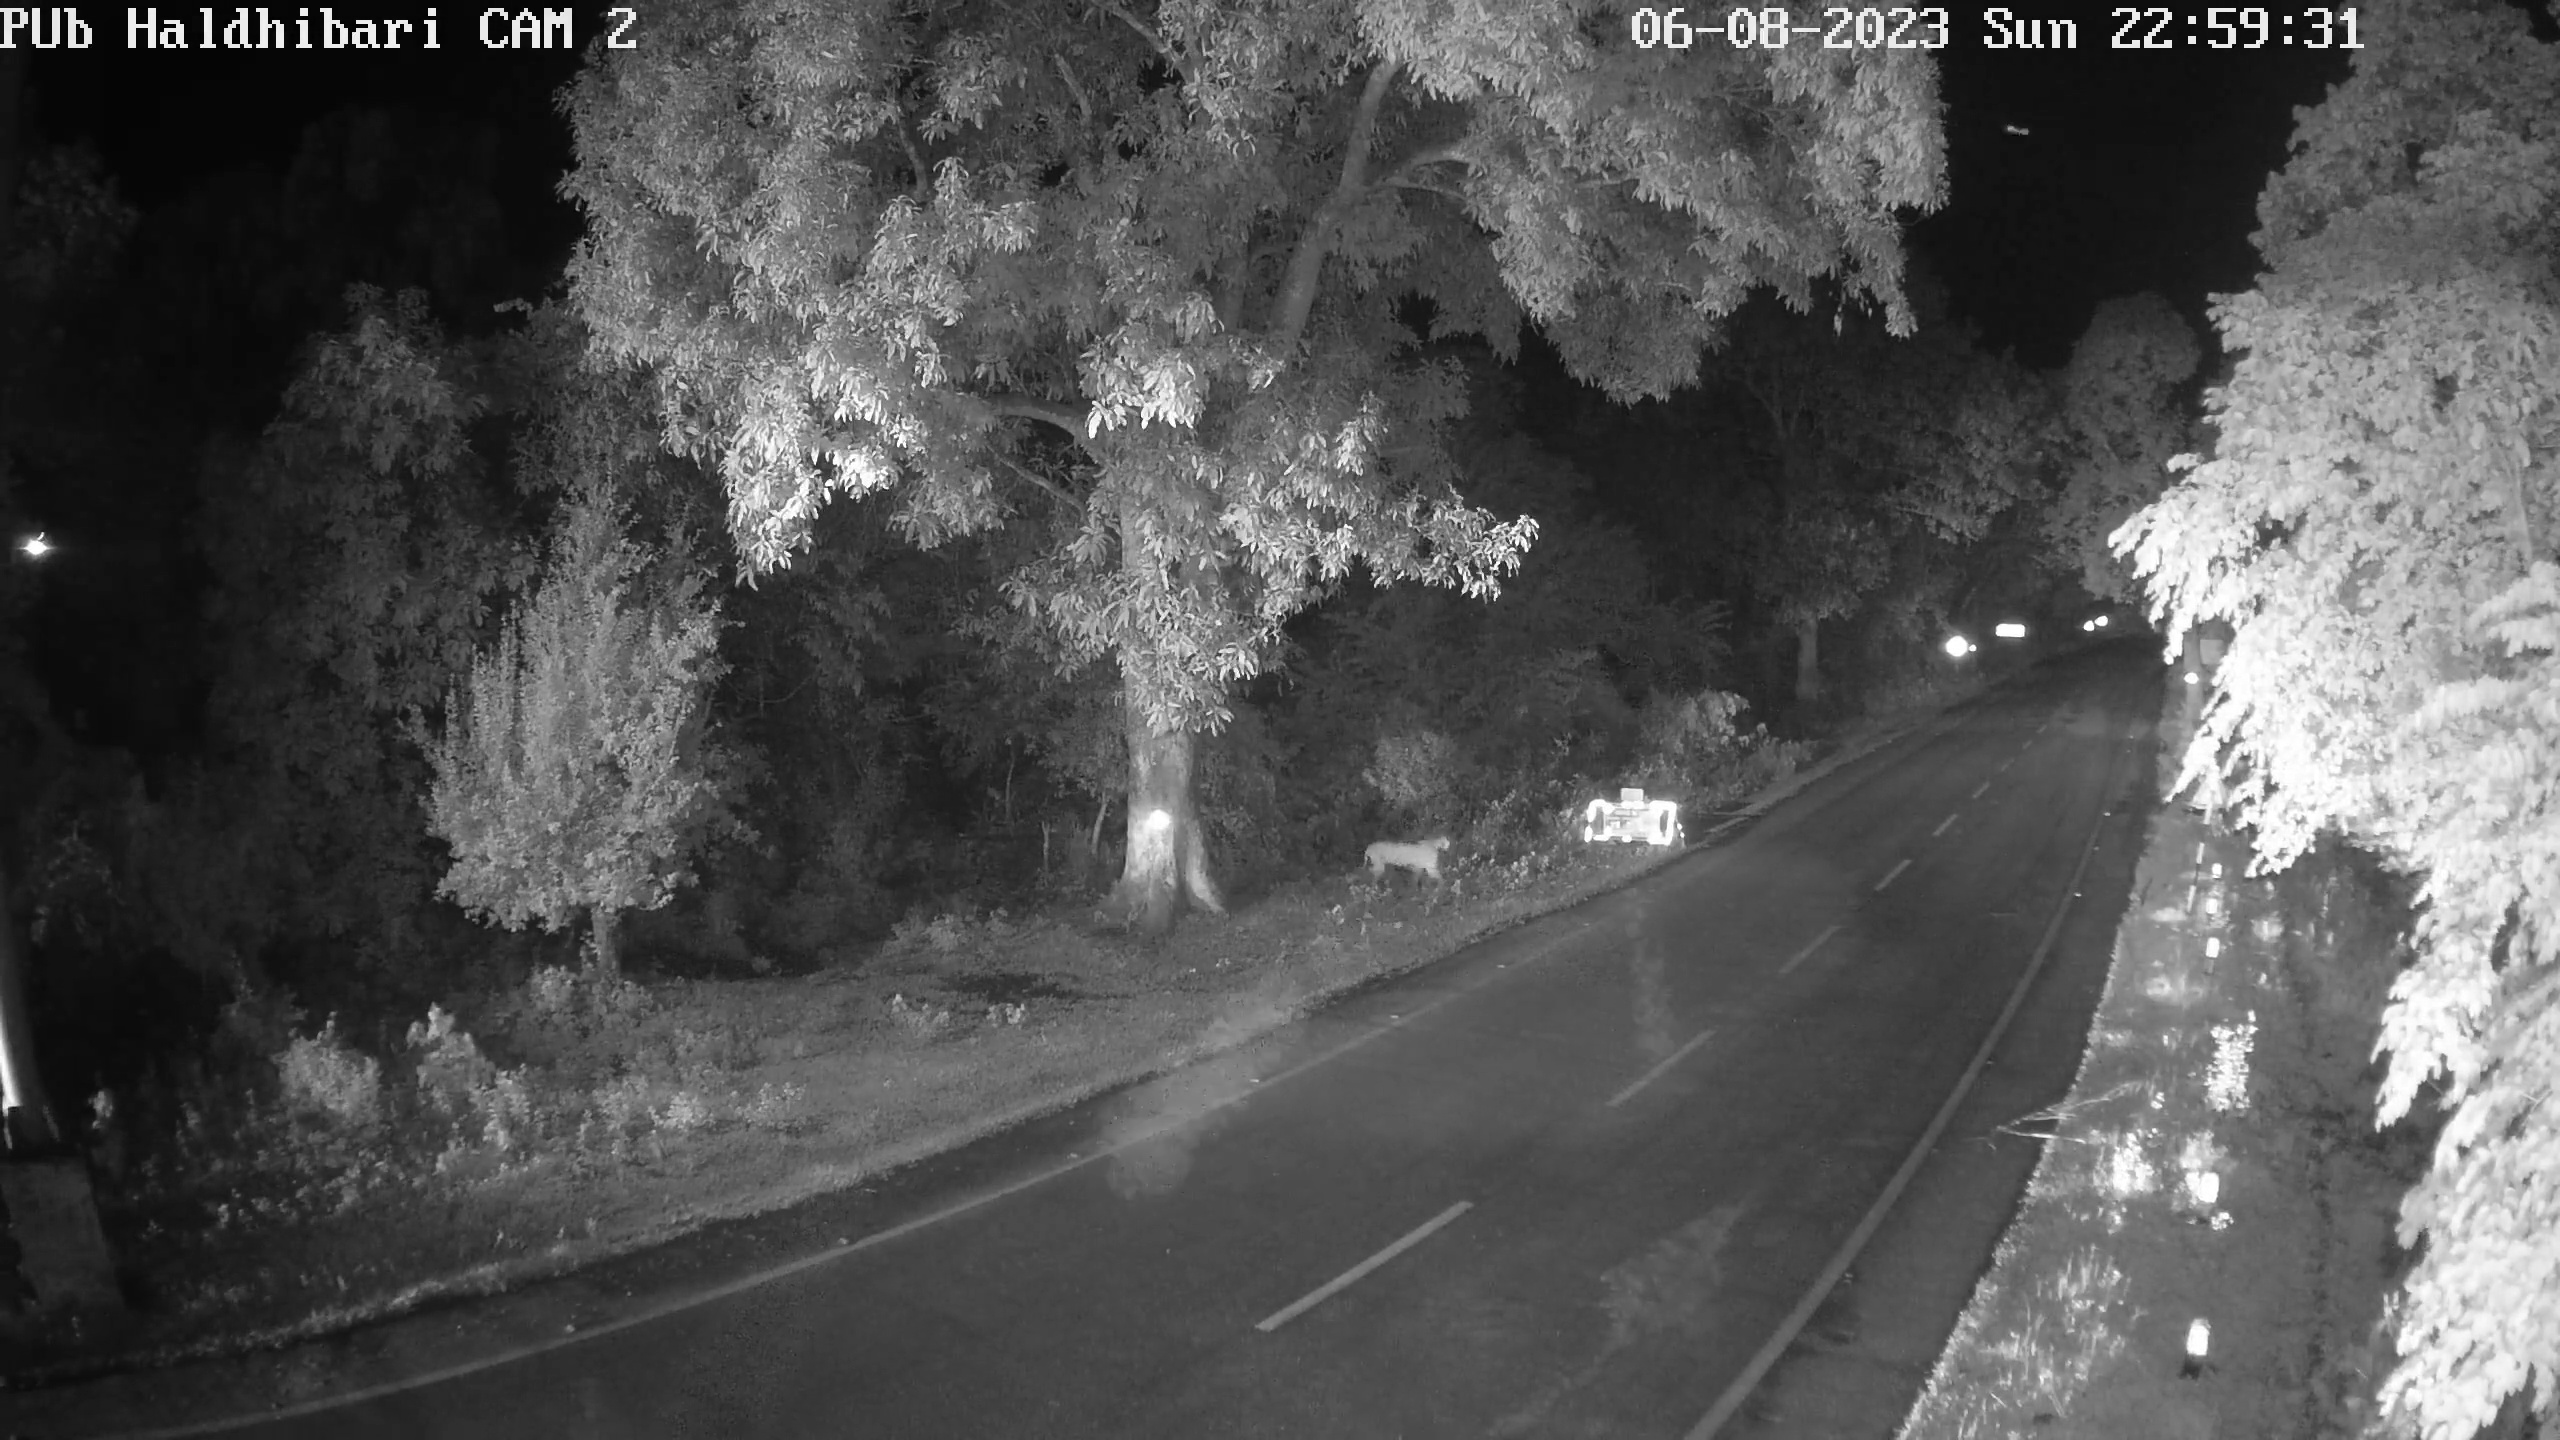tigers: (1356, 837, 1463, 886)
